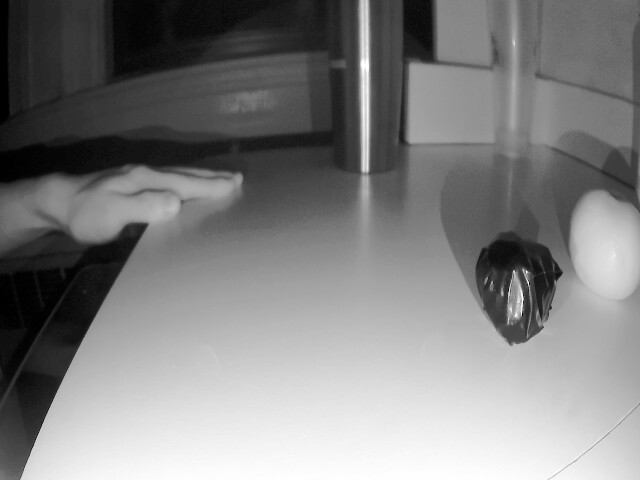black: (467, 226, 564, 352)
